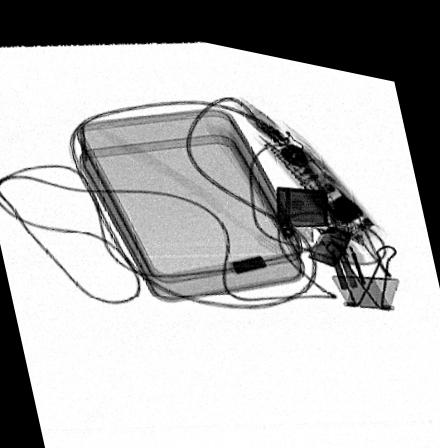Lighter: (274, 173, 350, 252)
